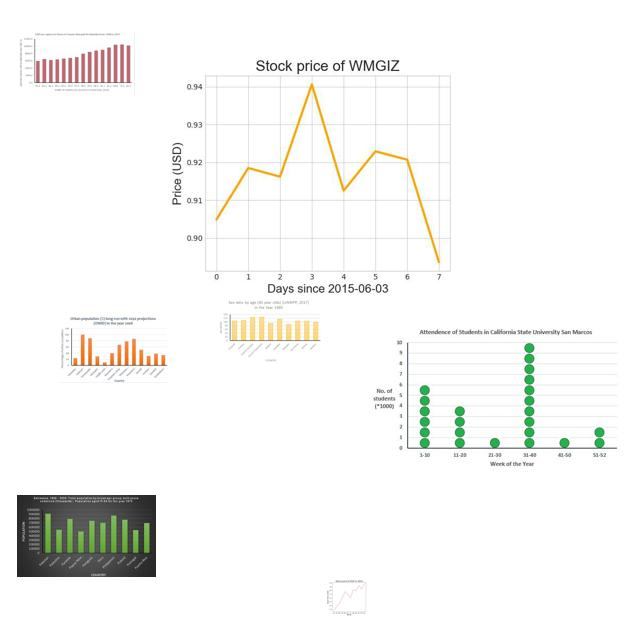Graph: (154, 45, 493, 299), (368, 325, 622, 472), (17, 495, 156, 577), (58, 315, 169, 383), (17, 31, 135, 94), (216, 300, 321, 362), (323, 578, 374, 616)
